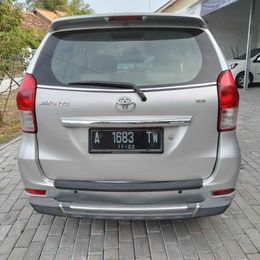plate: (88, 126, 162, 155)
